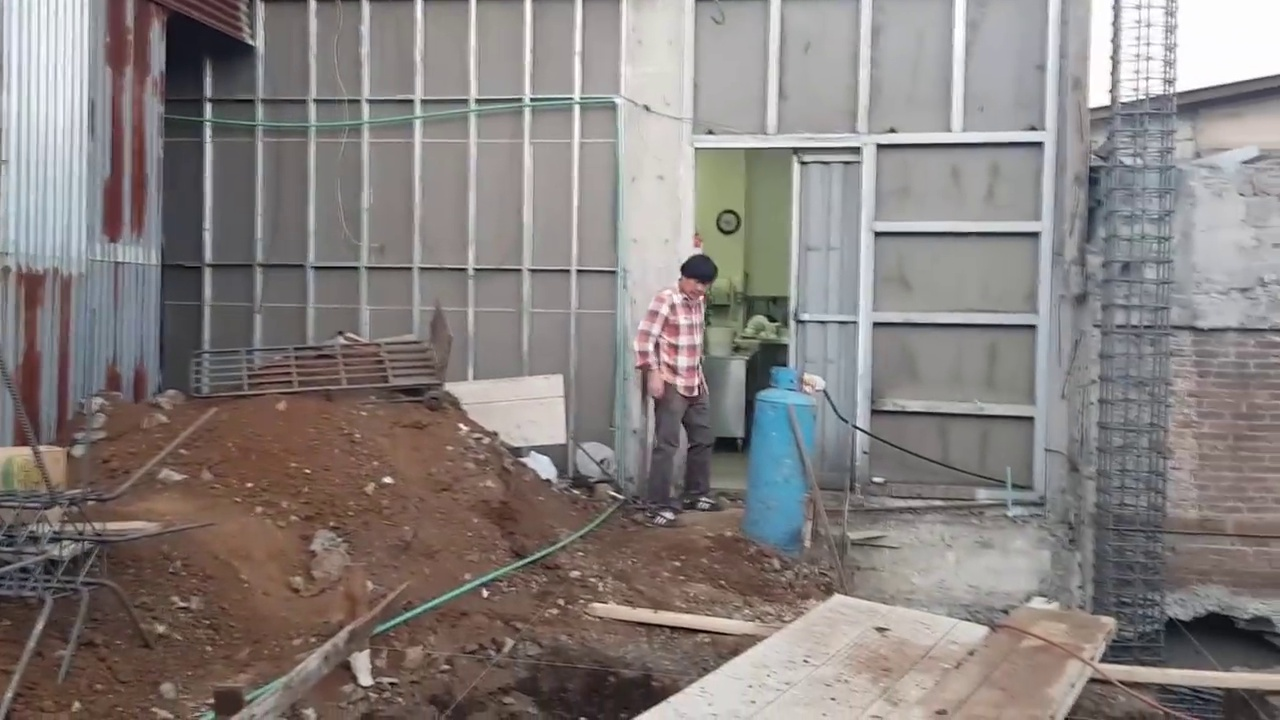helmet-off: (676, 255, 721, 303)
person: (632, 258, 724, 528)
